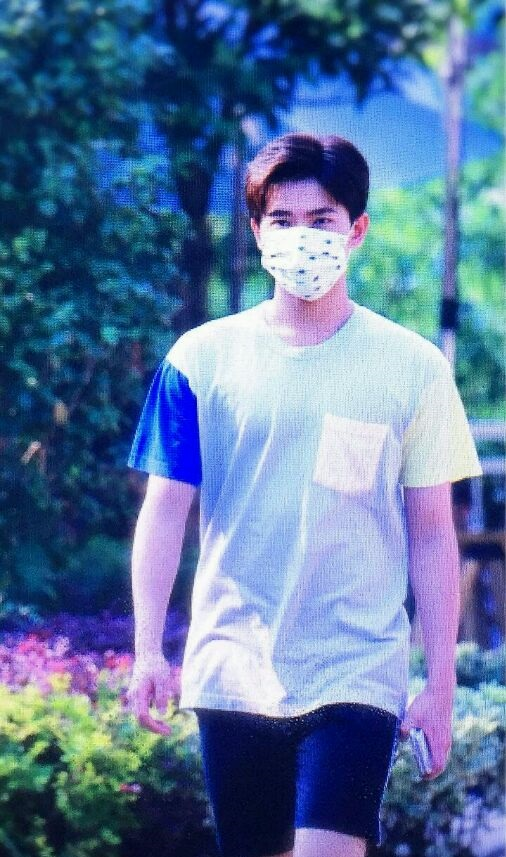face_mask: (263, 169, 342, 306)
